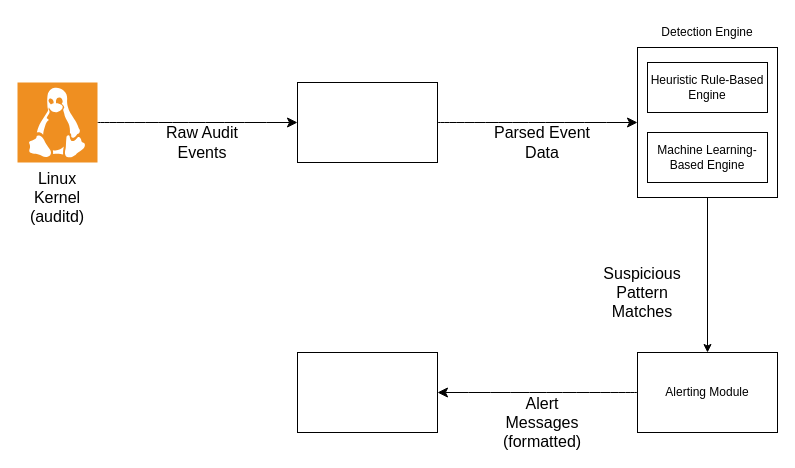
Some shapes in this 795 by 468 pixel diagram are drawn without their labels. The shapes that lost their labels are listed below. From the top down, each one's box as (x1, y1, x2, y2) in pixels, then its label:
(296, 82, 438, 162): Audit Log Consumer
(296, 352, 438, 432): Syslog
